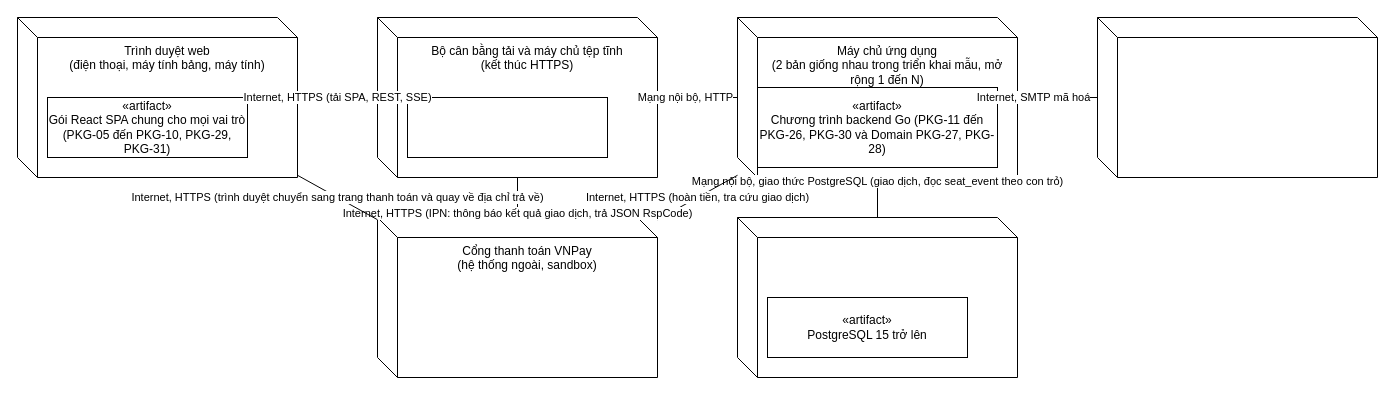
The diagram is 1395 pixels wide and 395 high, and some of its shapes have lost their labels. The box of each missing label's shape, as (x1, y1, x2, y2) in pixels:
Dịch vụ email SMTP (hệ thống ngoài): (1096, 16, 1378, 178)
Máy chủ cơ sở dữ liệu (1 node, không nhân bản): (736, 216, 1018, 378)
«artifact» Gói React SPA dạng tệp tĩnh: (406, 96, 608, 158)
